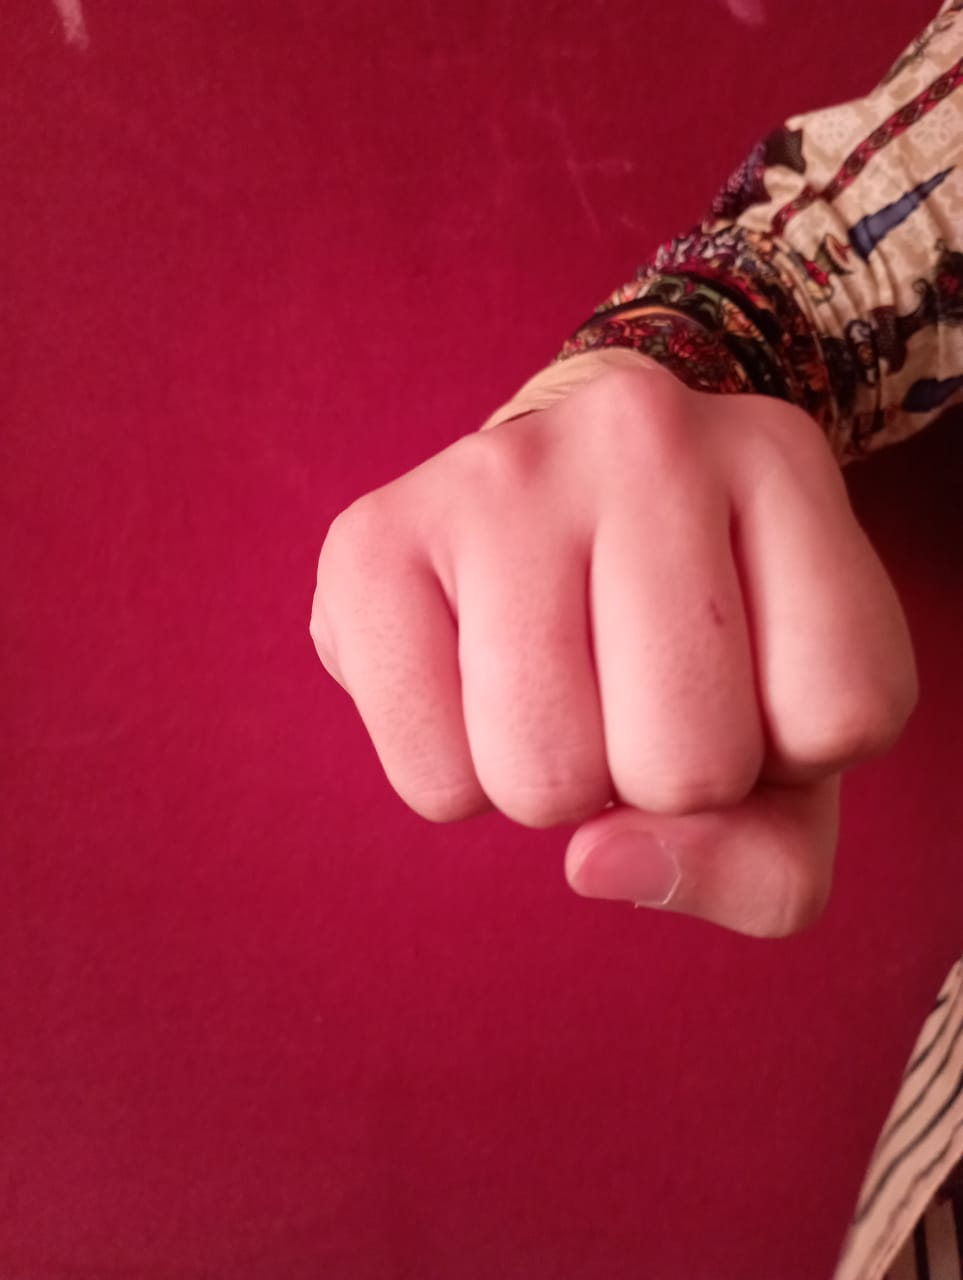BroCode: (291, 351, 927, 980)
